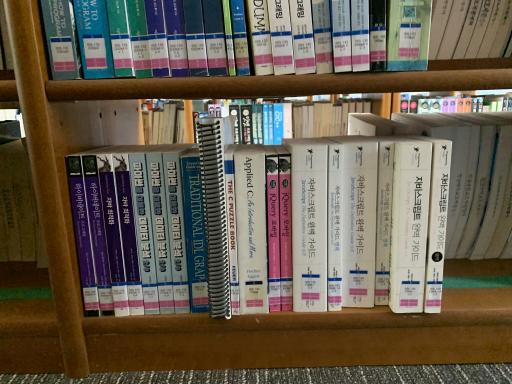book-spine: (394, 143, 433, 314), (342, 144, 378, 308), (233, 152, 269, 314), (292, 146, 327, 312), (65, 157, 101, 317), (81, 155, 115, 316), (96, 154, 129, 317), (127, 152, 160, 314), (112, 154, 144, 316), (146, 152, 175, 314), (425, 143, 452, 314), (181, 156, 208, 314), (163, 153, 189, 314), (375, 143, 395, 305), (223, 155, 239, 316), (266, 154, 281, 311), (279, 154, 294, 311), (329, 145, 343, 310)
